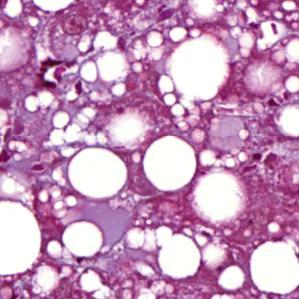steatosis: (65, 146, 131, 200), (140, 137, 205, 191)
